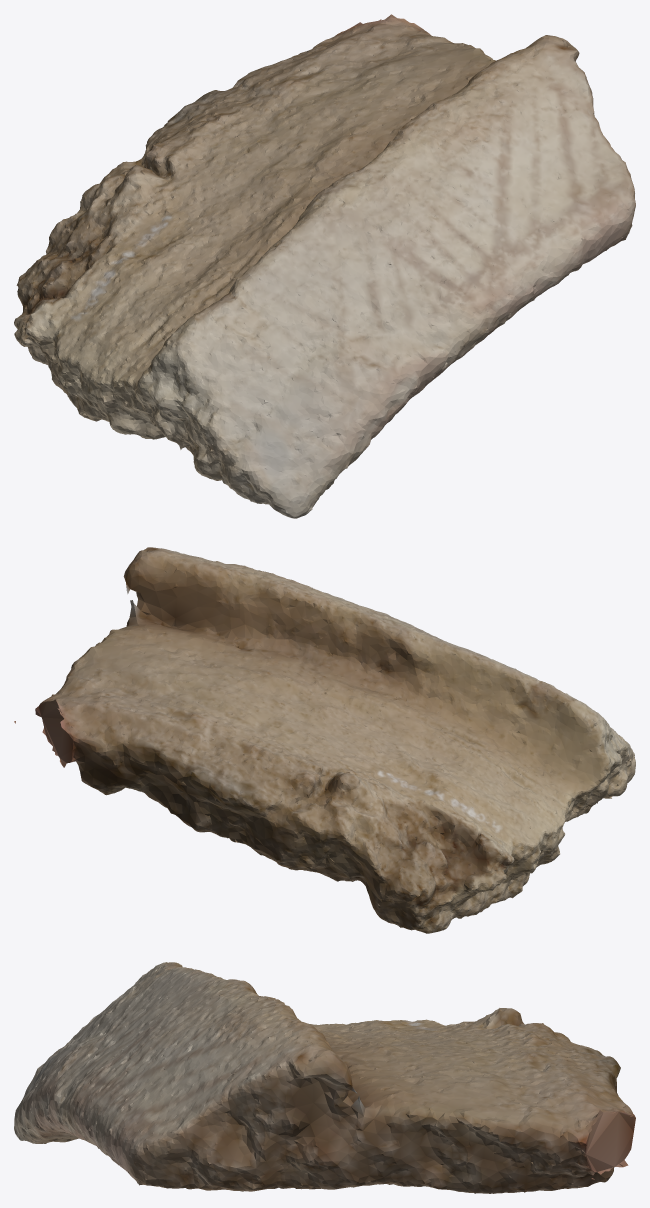
File: glb_LOD00760.glb
The picture shows the model from 3 angles, top to bottom: view 1: azimuth 30°, elevation 25°; view 2: azimuth 150°, elevation 25°; view 3: azimuth 270°, elevation 25°; orthographic projection. The views are drawn at different scales.
Visible parts, largest first — view 1: Mesh_0_Part_0; view 2: Mesh_0_Part_0; view 3: Mesh_0_Part_0.
Boxes of the visible parts, x1,y1,x2,y2 form: Mesh_0_Part_0: [14, 14, 635, 518]; Mesh_0_Part_0: [14, 547, 635, 933]; Mesh_0_Part_0: [14, 962, 635, 1193].
Size of the model in its own units: 9.03 by 4.85 by 9.26.
